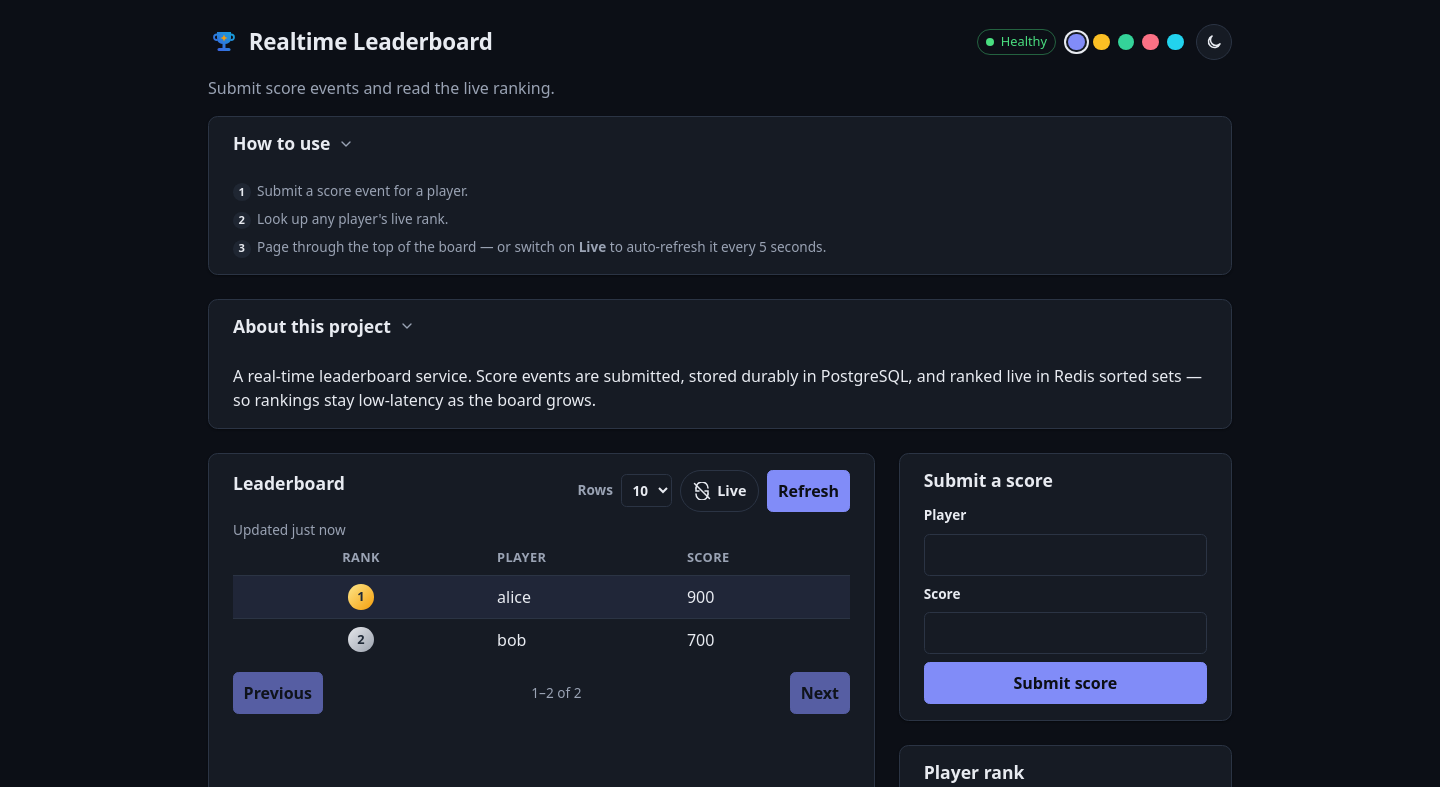
Test case: App › expands and minimizes the How to use panel from its title
Expected: the number of list items is 3, [257,181,468,200]; [257,209,448,228]; [257,238,826,256]
Click the button "How to use" at coordinates (294, 144), box [233,133,354,154]
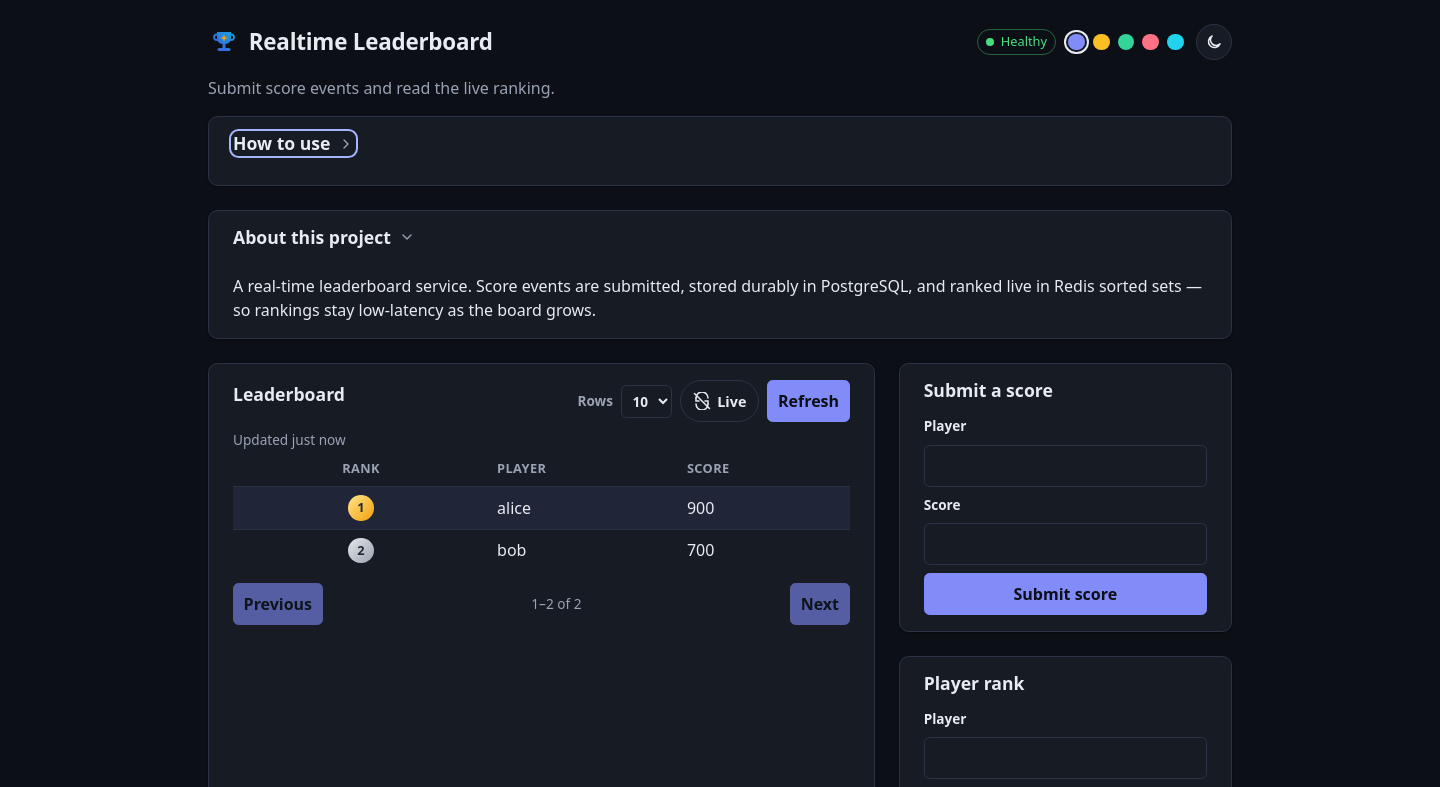
Expected: the button "How to use" is collapsed
Expected: the list item "Submit a score event for a player." is gone
Click the button "How to use" at coordinates (294, 144), box [233,133,354,154]
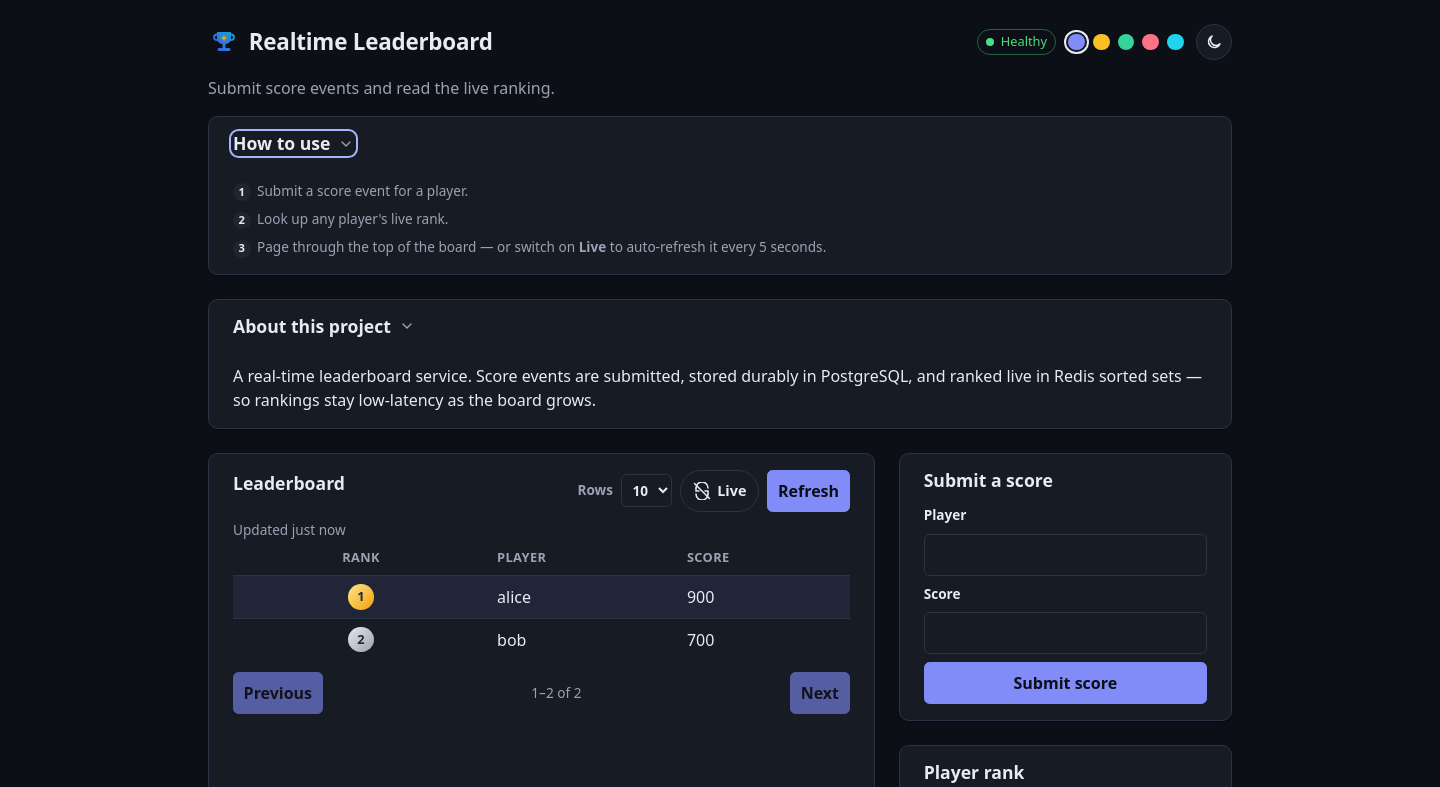
Expected: the button "How to use" is expanded, [233,133,354,154]
Expected: the number of list items is 3, [257,181,468,200]; [257,209,448,228]; [257,238,826,256]
